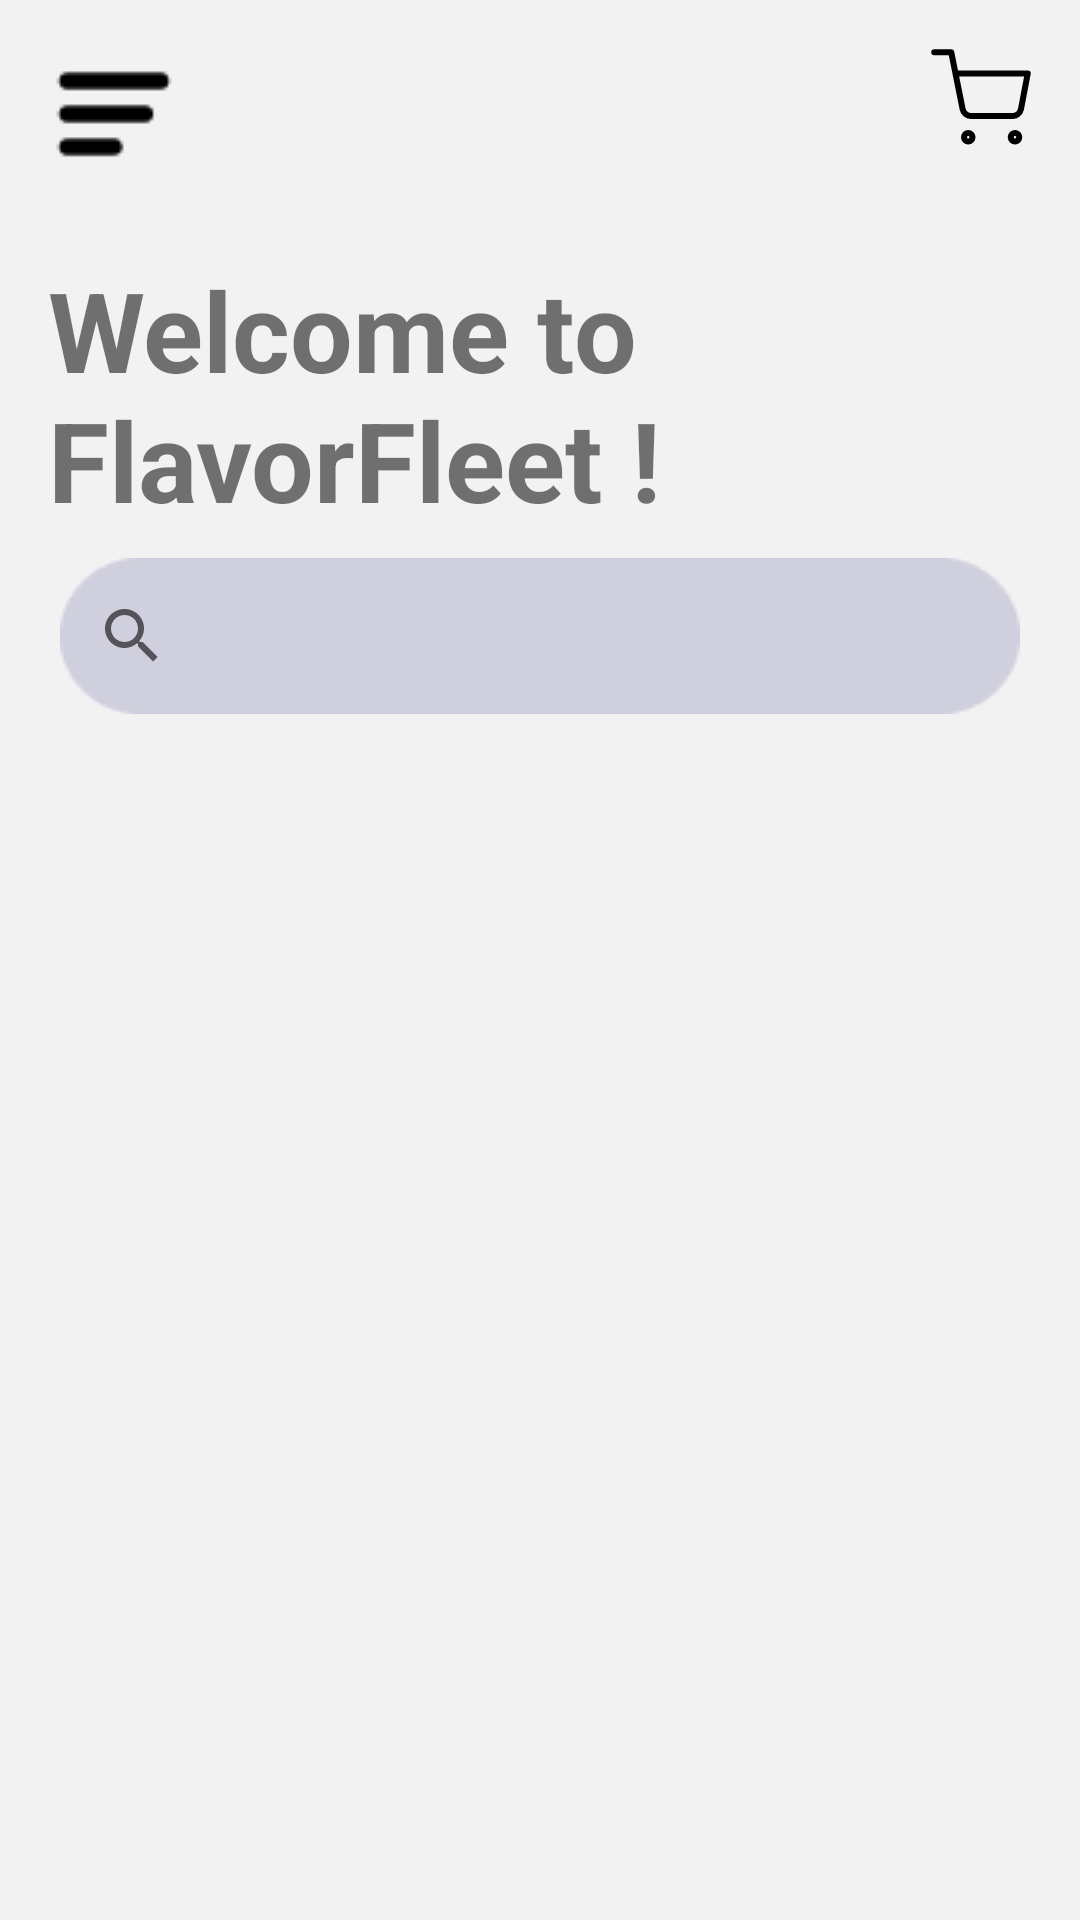

Point at icon controls on the screen. Image size 1080px x 1920px, points as [x,y].
burger: [114,114]
cart: [981,97]
